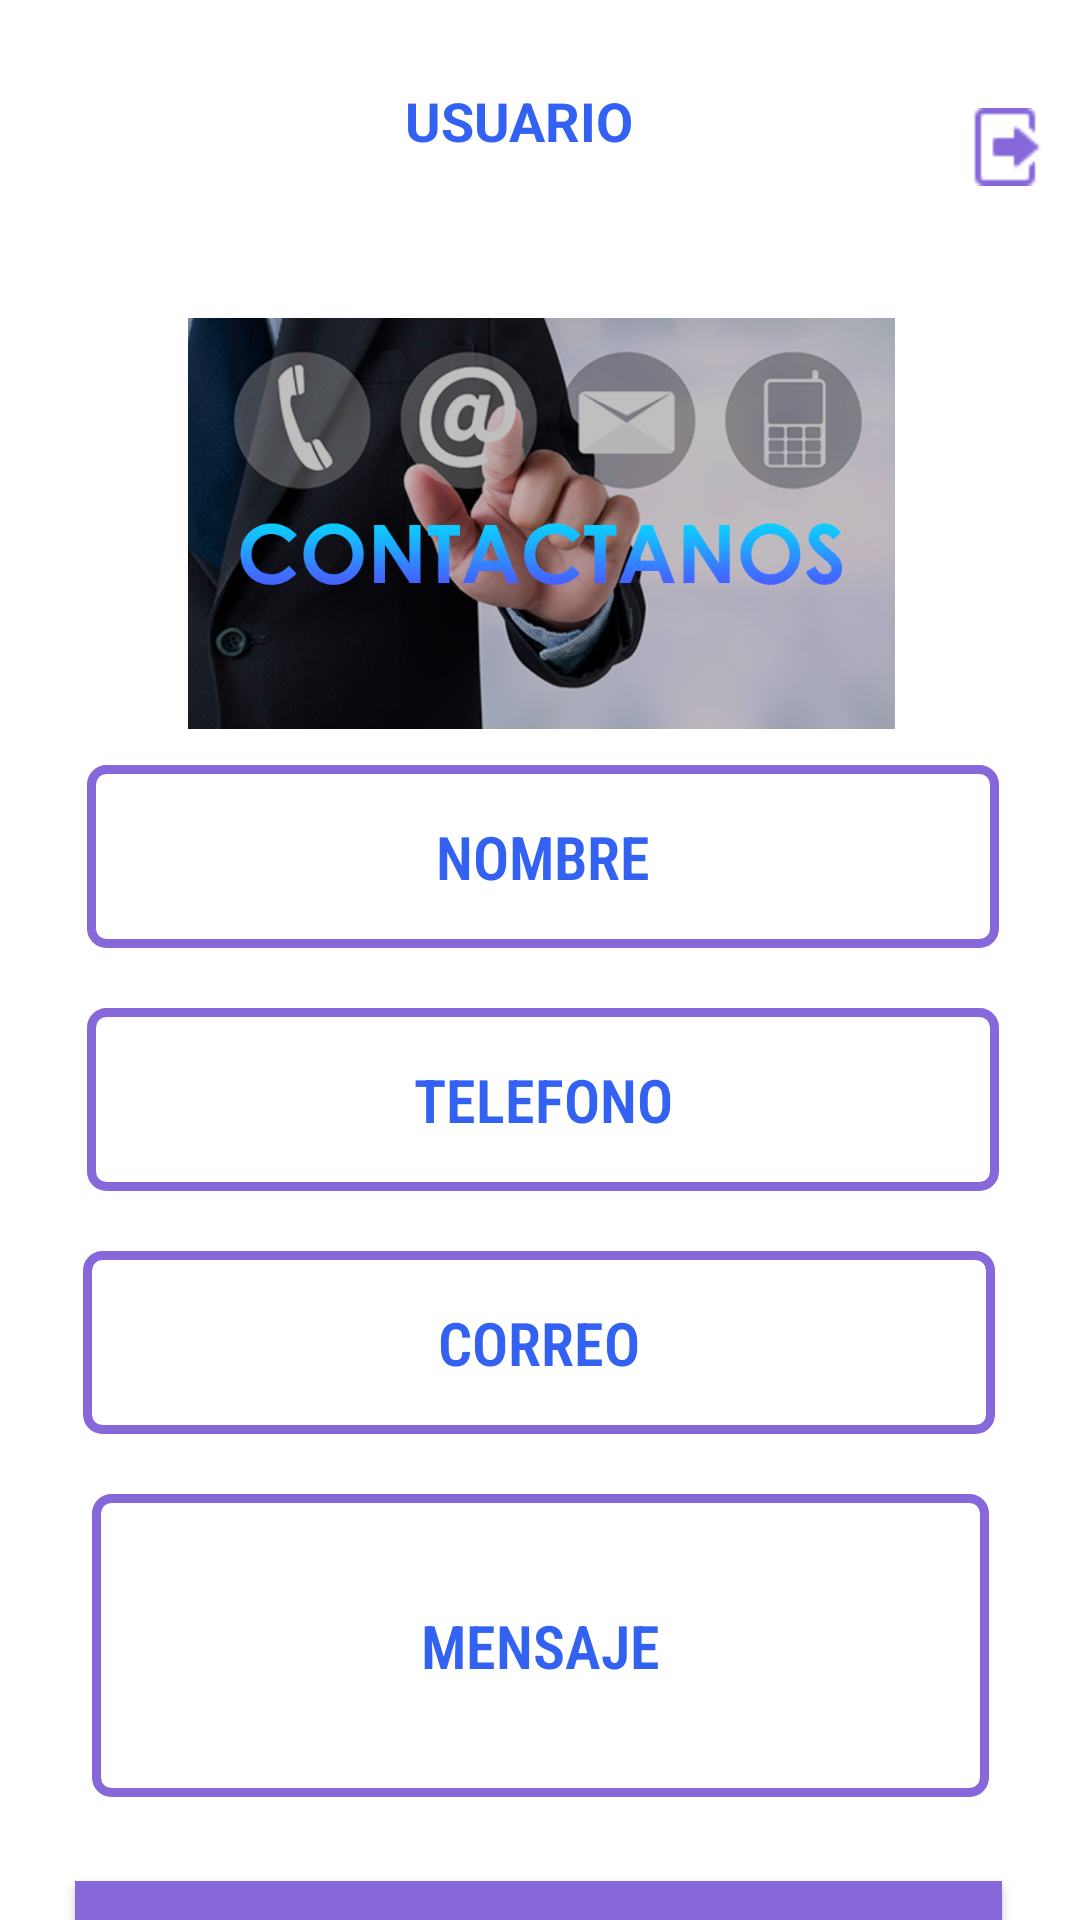

Where to tap for icons on this 1080px×1920px app screen, as [x,y]:
exit: [1006,147]
